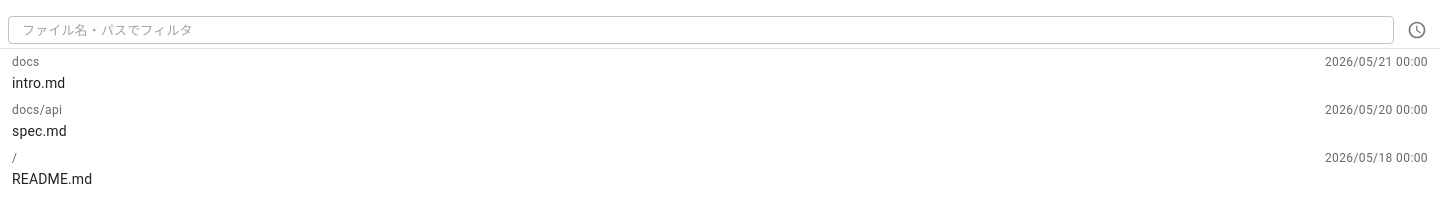
Test: Sidebar recent view (#68) › shows a no-match note when the filter matches no file
Expected: the button with test id "sidebar-recent-file-docs/intro.md" is shown, [0, 49, 1439, 97]
Type "zzz-no-match" into the field with test id "sidebar-filter" at (701, 30), box [8, 21, 1394, 39]
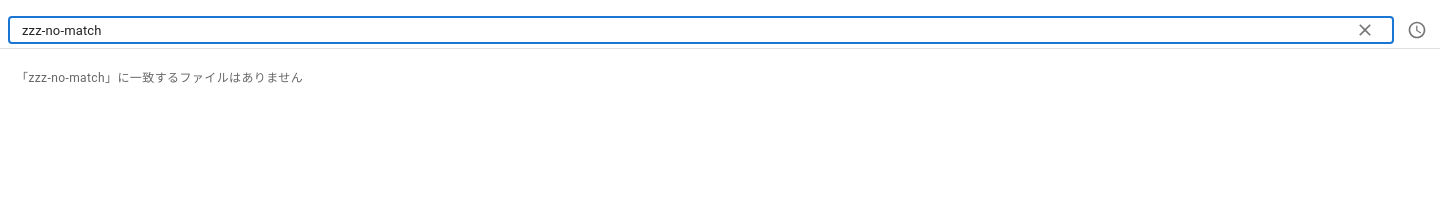
Result: the element with test id "sidebar-no-match" is shown at [16, 71, 303, 85]
